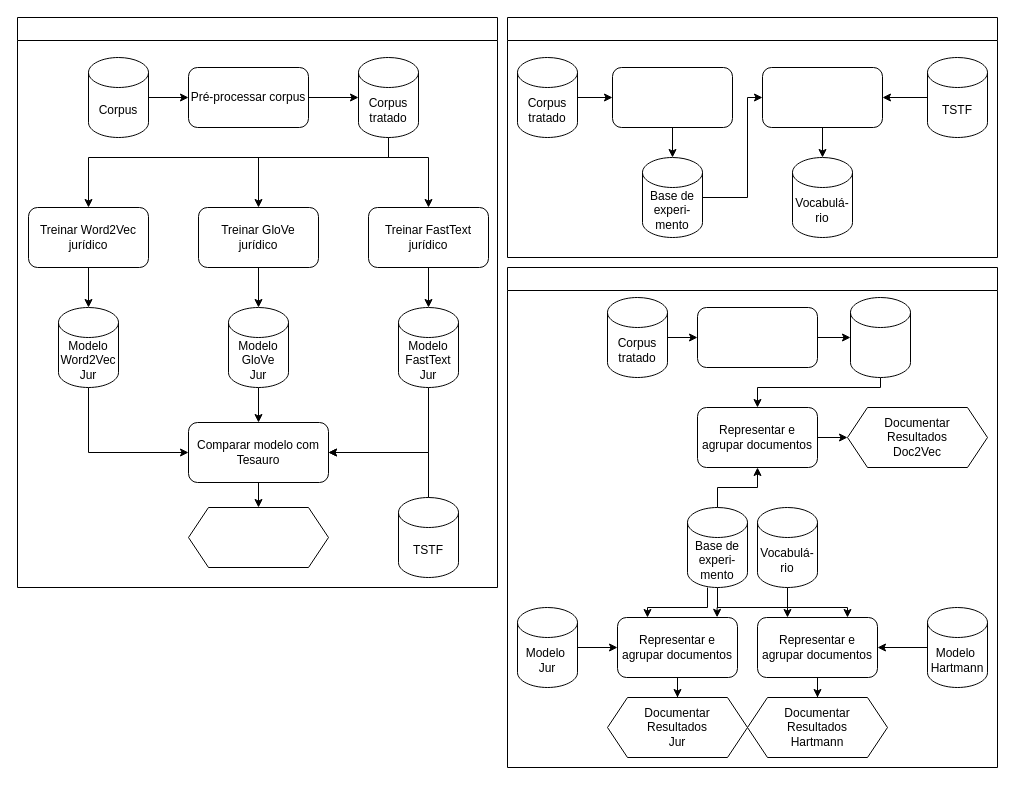
Some shapes in this 1015 by 785 pixel diagram are drawn without their labels. The box of each missing label's shape, as (x1, y1, x2, y2) in pixels:
Definir vocabulário: (762, 66, 882, 128)
Documentar Resultados: (188, 506, 328, 568)
Geração e estudo de embeddings de palavras: (16, 16, 498, 588)
Modelo Doc2Vec Jur: (850, 296, 910, 378)
Representação e agrupamento de documentos: (506, 266, 998, 768)
Selecionar assuntos e documentos: (612, 66, 732, 128)
Seleção de documentos e definição do vocabulário: (506, 16, 998, 258)
Treinar modelo Doc2Vec: (696, 306, 818, 368)
